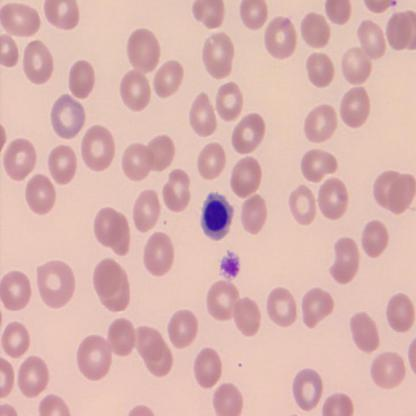NRC: (200, 189, 234, 242)
